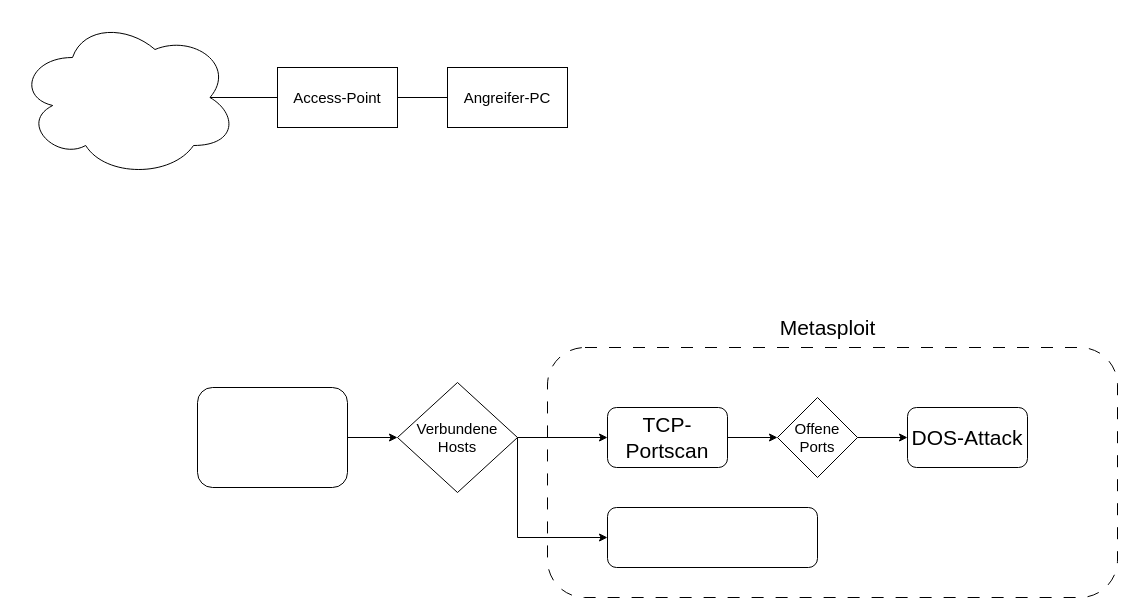
The diagram is 1135 pixels wide and 615 high, and some of its shapes have lost their labels. Each missing label, with the centre of its shape:
"IoT-Geräte" goes at (x=127, y=97).
"Scanner" goes at (x=272, y=437).
"Wordlist-Attack (FTP, Telnet, SSH, HTTP)" goes at (x=712, y=537).
